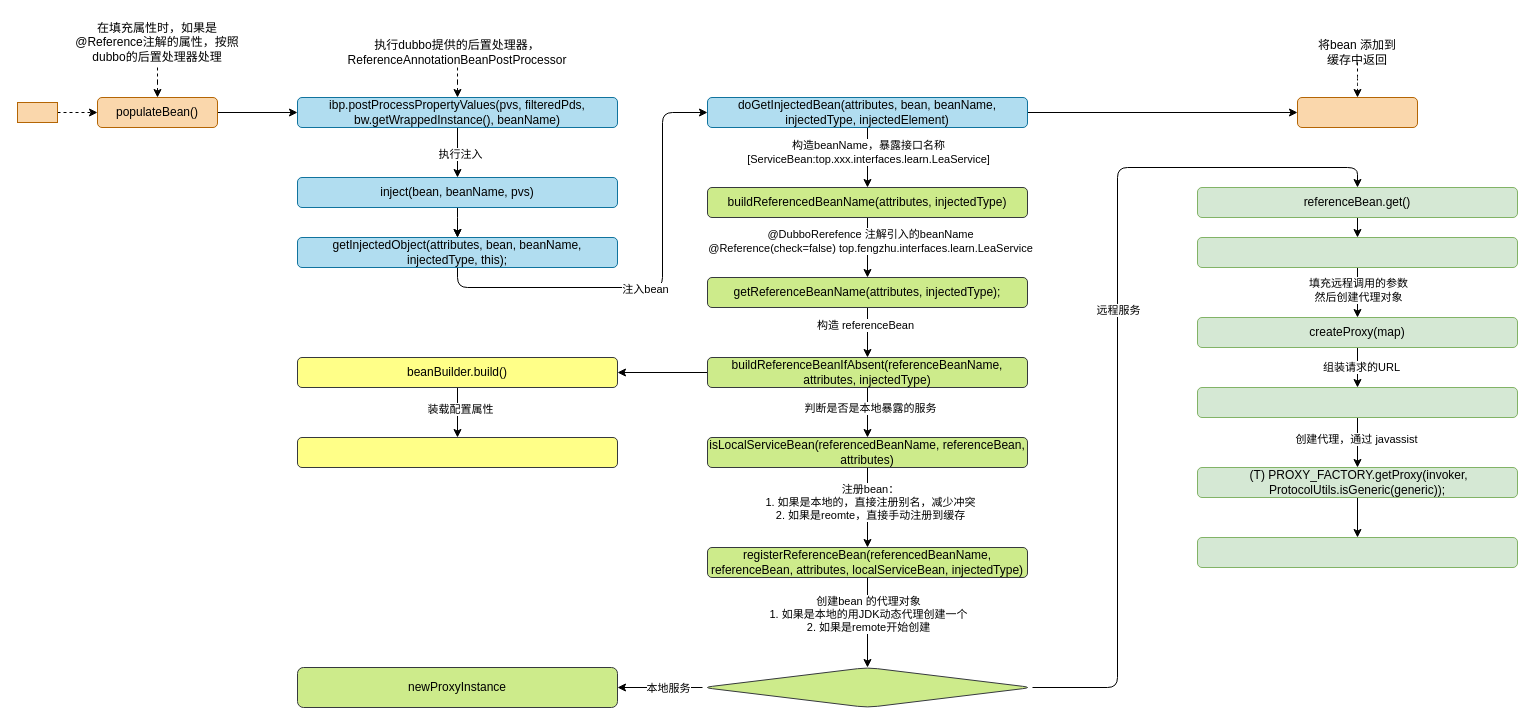
Some shapes in this 1535 by 725 pixel diagram are drawn without their labels. Each missing label, with the centre of its shape:
configureBean(configBean): pixel 457 452
ConfigValidationUtils.loadRegistries(this, false): pixel 1357 402
getOrCreateProxy(,,,): pixel 867 687
init(): pixel 1357 252
IoC: pixel 37 112
return bean: pixel 1357 112
先创建代理实例，在创建代理类，都是通过字节码拼接完成: pixel 1357 552
